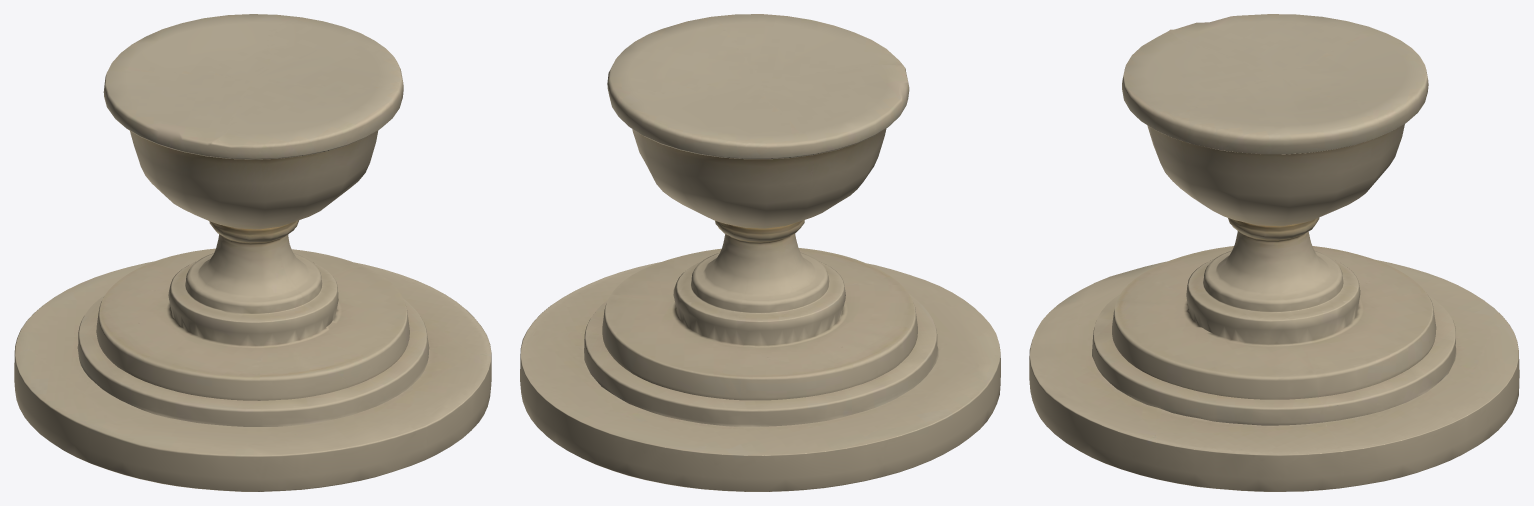
The picture shows the model from 3 angles, left to right: view 1: azimuth 30°, elevation 25°; view 2: azimuth 150°, elevation 25°; view 3: azimuth 270°, elevation 25°; orthographic projection.
Size of the model in its own units: 0.9907 by 0.7339 by 0.9995.
Materials: 1 (1 with a texture image).
